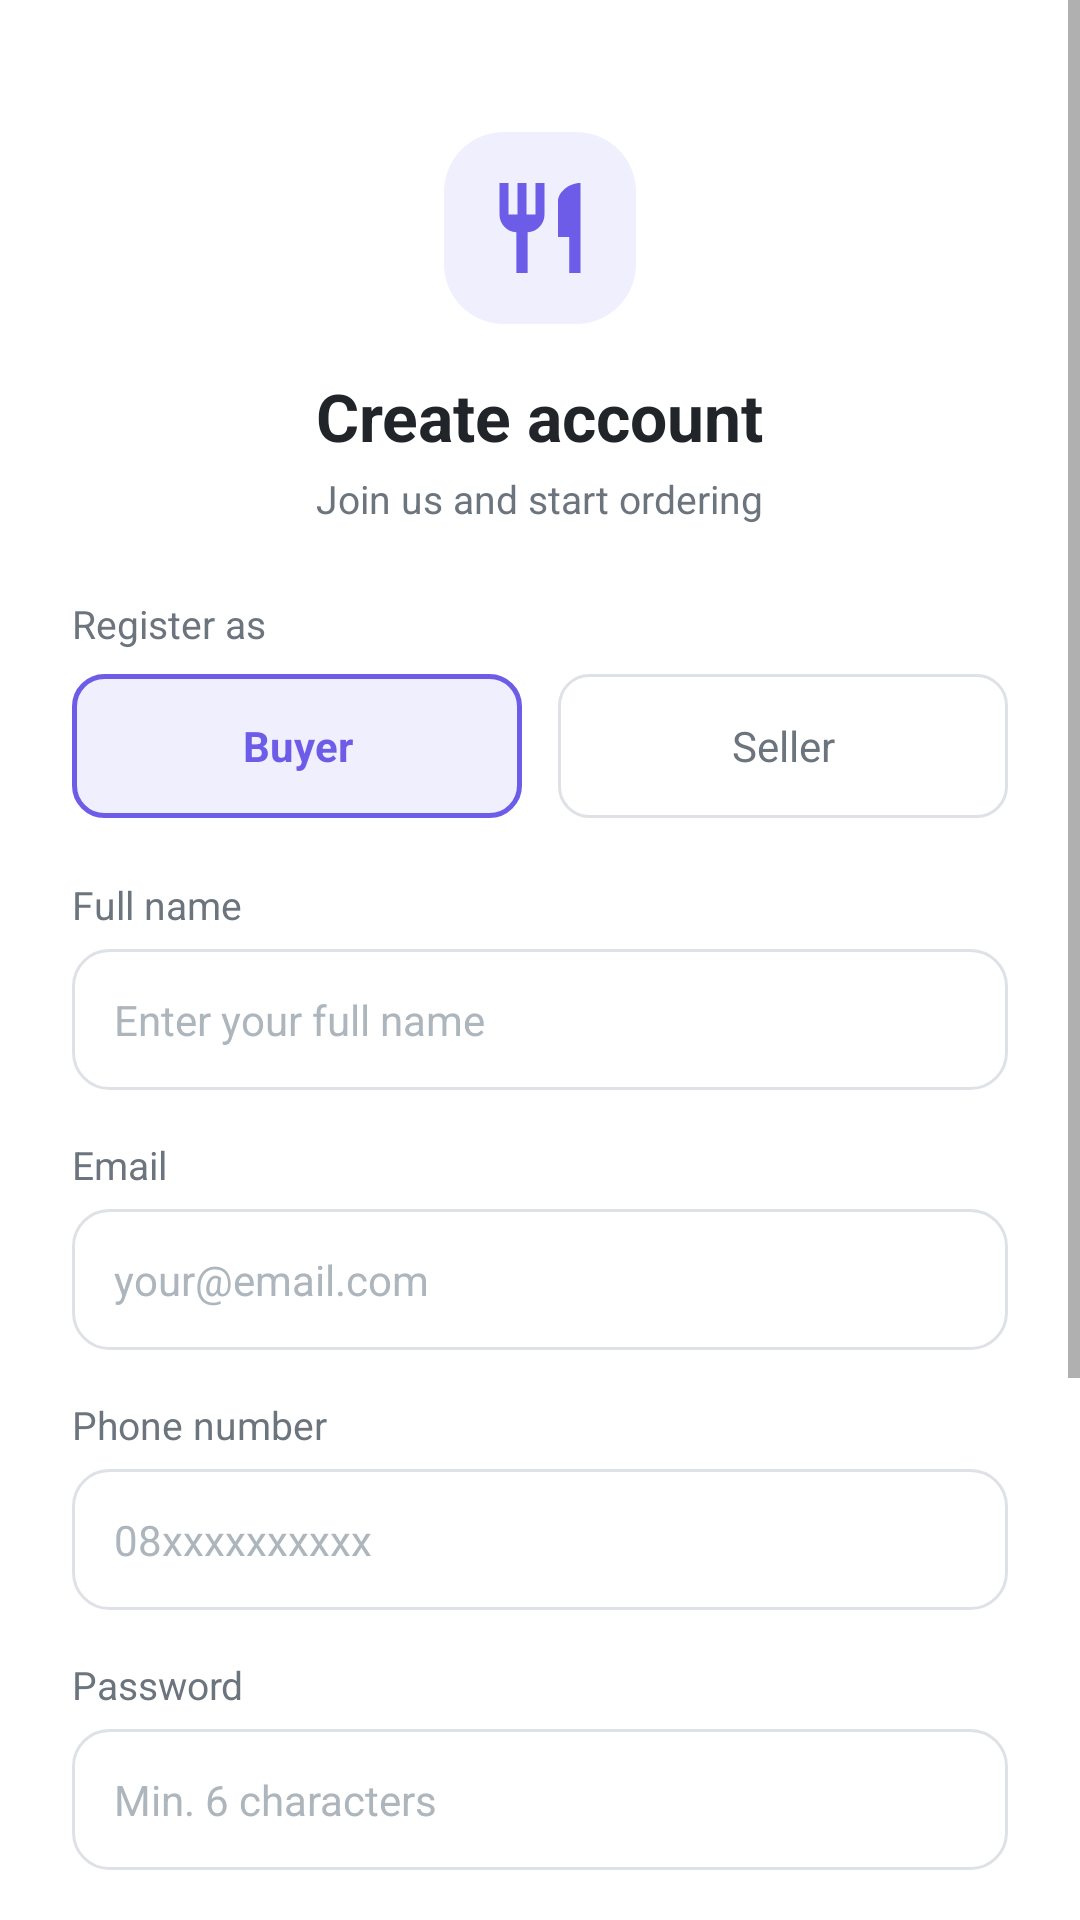

Where icons sit on this 1080w x 1920h app screen, as (x1, y1, x2, y2):
food: (499, 183, 581, 273)
